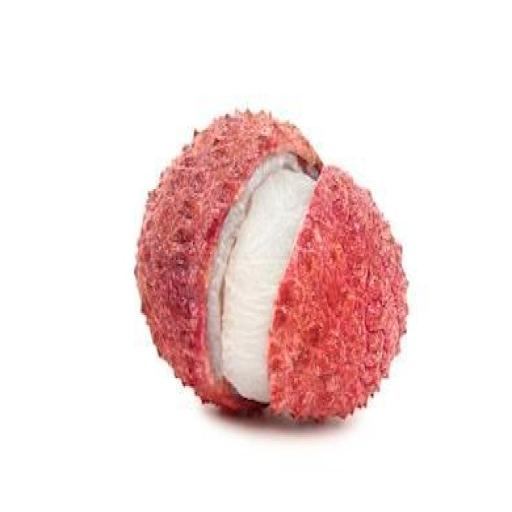lychee: (135, 113, 405, 419)
